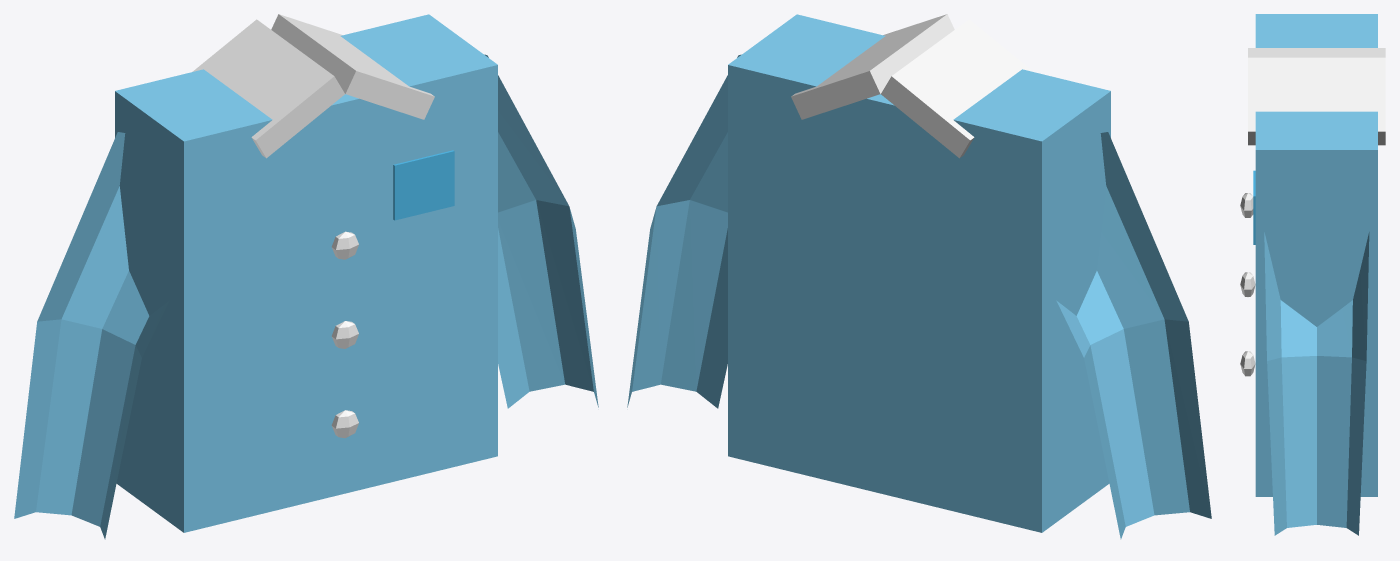
Rendered from skjorta.glb.
The picture shows the model from 3 angles, left to right: view 1: azimuth 30°, elevation 25°; view 2: azimuth 150°, elevation 25°; view 3: azimuth 270°, elevation 25°; orthographic projection. The views are drawn at different scales.
Parts seen in each view (by area): view 1: skjorta; view 2: skjorta; view 3: skjorta.
Part boxes in pixels (x1,y1,x2,y2): skjorta: [14, 14, 598, 539]; skjorta: [627, 14, 1211, 539]; skjorta: [1240, 14, 1385, 535].
Size of the model in its own units: 0.7684 by 0.5512 by 0.19.
